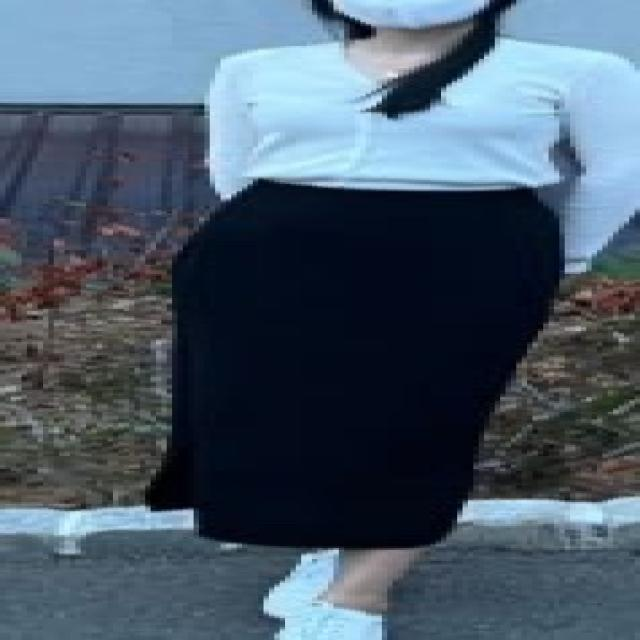cardigan: (201, 40, 640, 281)
skirt: (158, 182, 552, 548)
